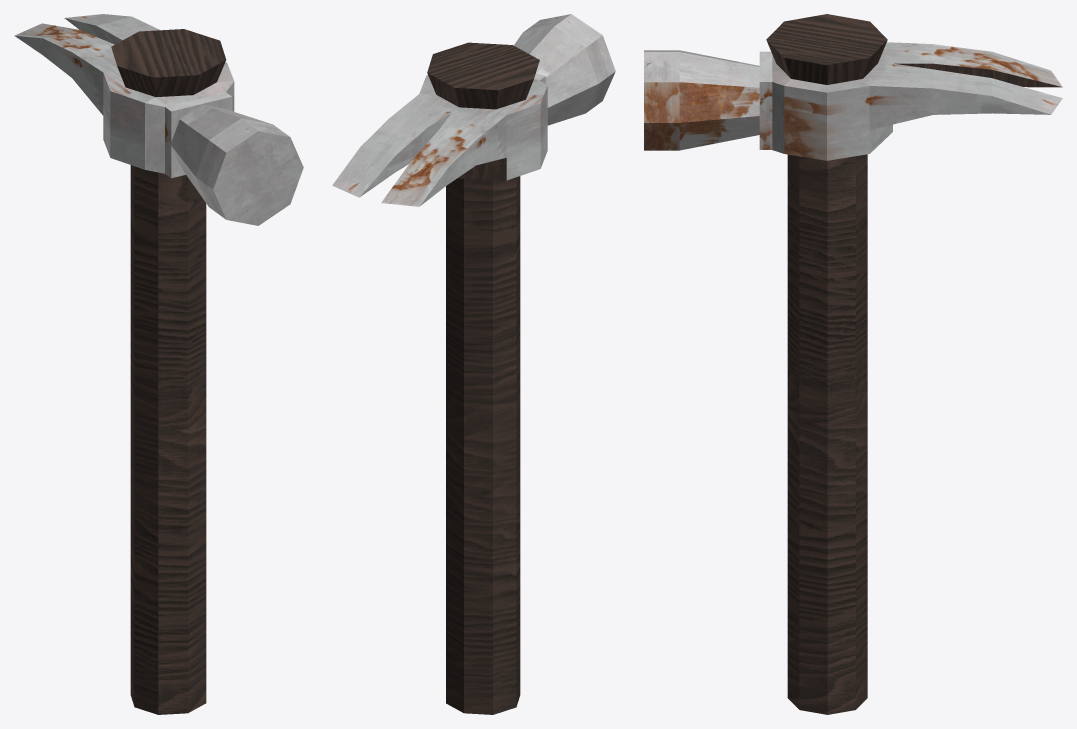
Rendered from carpenters_hammer.glb.
3 views of the same model, side by side, from view 1: azimuth 30°, elevation 25°; view 2: azimuth 150°, elevation 25°; view 3: azimuth 270°, elevation 25° (orthographic). The views are drawn at different scales.
Visible parts, largest first — view 1: carpenters_hammer; view 2: carpenters_hammer; view 3: carpenters_hammer.
Boxes of the visible parts, bbox=[...] form: carpenters_hammer: bbox=[14, 14, 303, 714]; carpenters_hammer: bbox=[332, 14, 615, 714]; carpenters_hammer: bbox=[644, 14, 1062, 714].
Bounding box in the file's own units: 0.1082 × 0.5718 × 0.3296.
2 materials, 2 textured.
